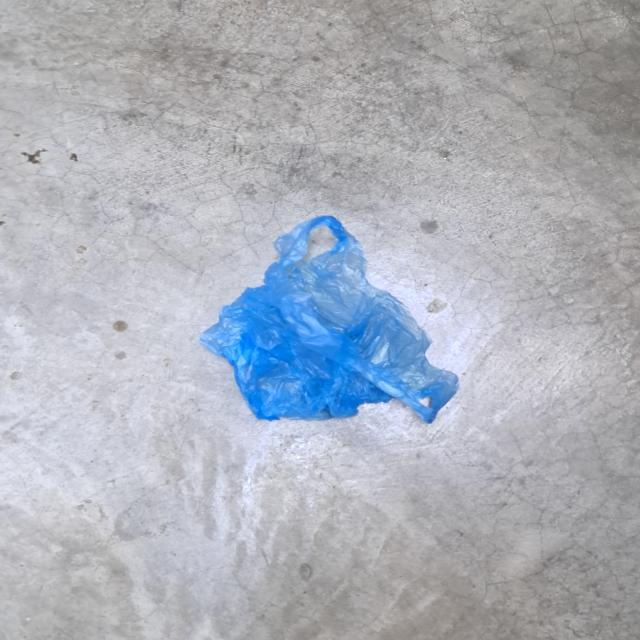plastic bag: (196, 213, 461, 428)
